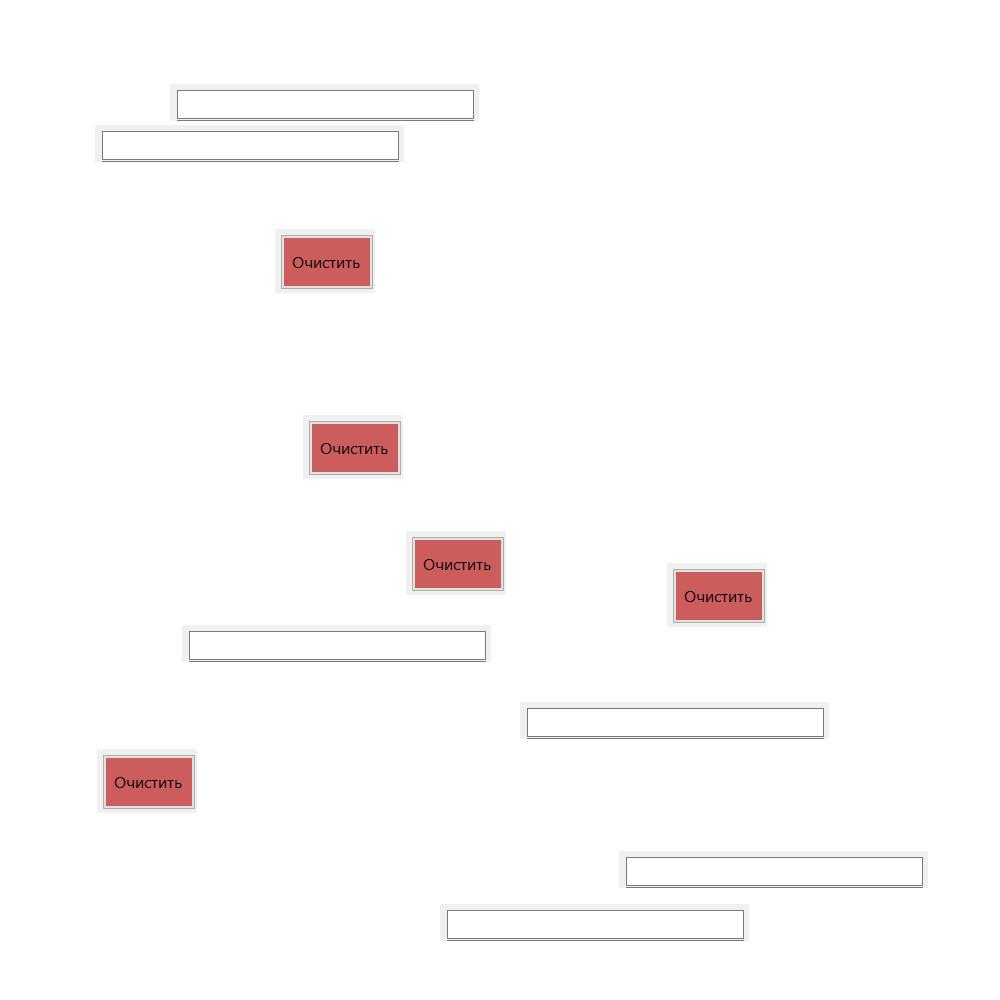Button: (667, 563, 767, 627), (97, 749, 197, 813), (406, 531, 506, 595), (275, 229, 375, 293), (303, 415, 403, 479)
EditText-: (440, 904, 749, 941), (170, 84, 479, 121), (619, 851, 928, 888), (520, 702, 829, 739), (95, 125, 404, 162), (182, 625, 491, 662)
